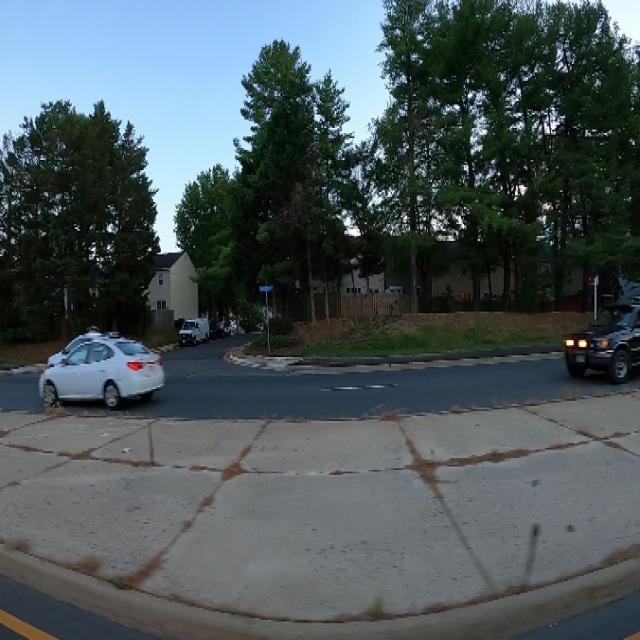car: (36, 325, 170, 421), (561, 282, 640, 398), (179, 309, 216, 351)
